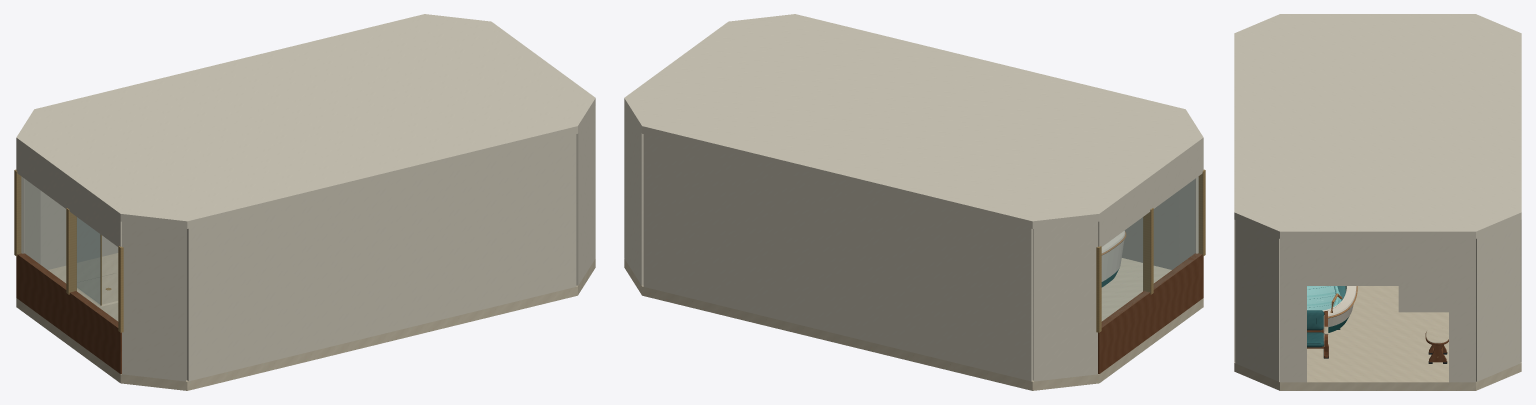
Rendered from D04_STARBOARD_FORWARD_HOME_973_r001.glb.
3 views of the same model, side by side, from view 1: azimuth 30°, elevation 25°; view 2: azimuth 150°, elevation 25°; view 3: azimuth 270°, elevation 25° (orthographic). The views are drawn at different scales.
Parts seen in each view (by area): view 1: D04SH973_Roof, D04SH973_Shell_3, D04SH973_Shell_4, D04SH973_Floor, D04SH973_GardenGlass, D04SH973_GardenDado, D04SH973_Shell_2, D04SH973_GardenHead, D04SH973_Shell_7, D04SH973_Shower__SHW_SideGlass, D04SH973_Shell_6, D04SH973_Shower__SHW_SlopedTray (+3 smaller); view 2: D04SH973_Roof, D04SH973_Shell_7, D04SH973_Shell_6, D04SH973_Floor, D04SH973_GardenGlass, D04SH973_GardenDado, D04SH973_Shell_0, D04SH973_GardenHead, D04SH973_Shell_3, D04SH973_Shell_4, D04SH973_WindowMullion_1, D04SH973_ReservedAquaticRest_2__Hollow continuous basin shel (+2 smaller); view 3: D04SH973_Roof, D04SH973_Floor, D04SH973_EntryHeader, D04SH973_Shell_0, D04SH973_Shell_2, D04SH973_EntryWall_0, D04SH973_EntryWall_1, D04SH973_BathDogleg, D04SH973_ReservedAquaticRest_1__WaterSurface_VisualOnly, D04SH973_ReservedAquaticRest_1__Hollow continuous basin shel, D04SH973_ReservedAquaticRest_1__Contoured broad immersed res, D04SH973_DryTransferChair__DAY_CHAIR_single_reclined_back_c (+4 smaller).
Boxes of the visible parts, left/top/right/bottom form: D04SH973_Roof: left=16, top=14, right=595, bottom=228; D04SH973_Shell_3: left=186, top=134, right=576, bottom=381; D04SH973_Shell_4: left=122, top=221, right=186, bottom=381; D04SH973_Floor: left=16, top=253, right=595, bottom=390; D04SH973_GardenGlass: left=24, top=179, right=117, bottom=324; D04SH973_GardenDado: left=16, top=253, right=121, bottom=373; D04SH973_Shell_2: left=576, top=107, right=595, bottom=285; D04SH973_GardenHead: left=16, top=145, right=121, bottom=246; D04SH973_Shell_7: left=40, top=191, right=118, bottom=269; D04SH973_Shower__SHW_SideGlass: left=77, top=217, right=99, bottom=303; D04SH973_Shell_6: left=21, top=176, right=40, bottom=264; D04SH973_Shower__SHW_SlopedTray: left=77, top=273, right=118, bottom=306; D04SH973_Roof: left=624, top=14, right=1203, bottom=228; D04SH973_Shell_7: left=643, top=134, right=1033, bottom=381; D04SH973_Shell_6: left=1033, top=221, right=1097, bottom=381; D04SH973_Floor: left=624, top=258, right=1203, bottom=390; D04SH973_GardenGlass: left=1102, top=179, right=1200, bottom=326; D04SH973_GardenDado: left=1098, top=253, right=1203, bottom=373; D04SH973_Shell_0: left=624, top=107, right=643, bottom=285; D04SH973_GardenHead: left=1098, top=145, right=1203, bottom=246; D04SH973_Shell_3: left=1121, top=191, right=1179, bottom=269; D04SH973_Shell_4: left=1179, top=176, right=1198, bottom=264; D04SH973_WindowMullion_1: left=1143, top=208, right=1153, bottom=294; D04SH973_ReservedAquaticRest_2__Hollow continuous basin shel: left=1101, top=230, right=1125, bottom=287; D04SH973_Roof: left=1234, top=14, right=1521, bottom=238; D04SH973_Floor: left=1234, top=286, right=1521, bottom=390; D04SH973_EntryHeader: left=1307, top=239, right=1448, bottom=285; D04SH973_Shell_0: left=1476, top=220, right=1520, bottom=381; D04SH973_Shell_2: left=1235, top=220, right=1279, bottom=381; D04SH973_EntryWall_0: left=1449, top=239, right=1475, bottom=382; D04SH973_EntryWall_1: left=1280, top=239, right=1306, bottom=382; D04SH973_BathDogleg: left=1398, top=286, right=1448, bottom=312; D04SH973_ReservedAquaticRest_1__WaterSurface_VisualOnly: left=1307, top=286, right=1345, bottom=310; D04SH973_ReservedAquaticRest_1__Hollow continuous basin shel: left=1324, top=286, right=1356, bottom=332; D04SH973_ReservedAquaticRest_1__Contoured broad immersed res: left=1307, top=286, right=1339, bottom=310; D04SH973_DryTransferChair__DAY_CHAIR_single_reclined_back_c: left=1307, top=310, right=1324, bottom=330.
Size of the model in its own units: 12.93 by 4.4 by 7.2.
Materials: 51 (21 with a texture image).
